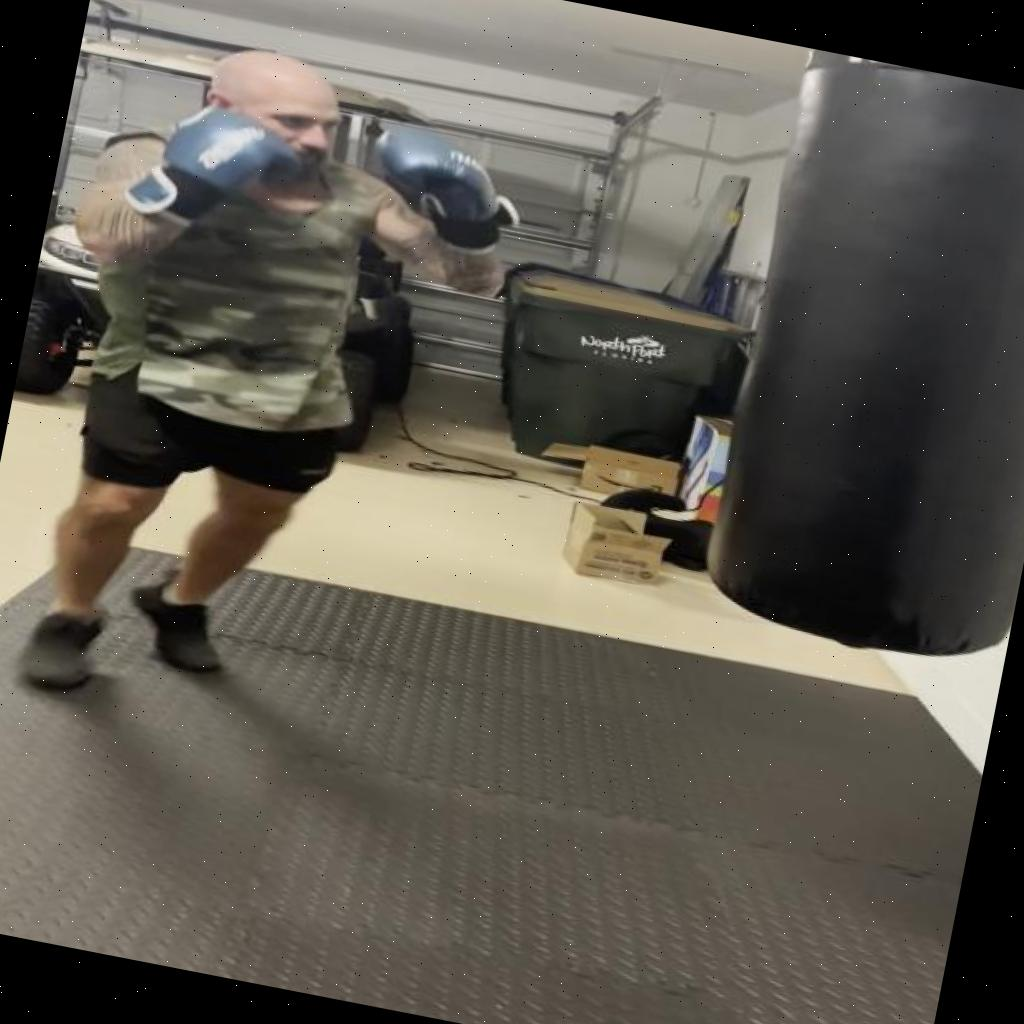bag: (670, 43, 1024, 688)
no punch: (48, 4, 582, 355)
